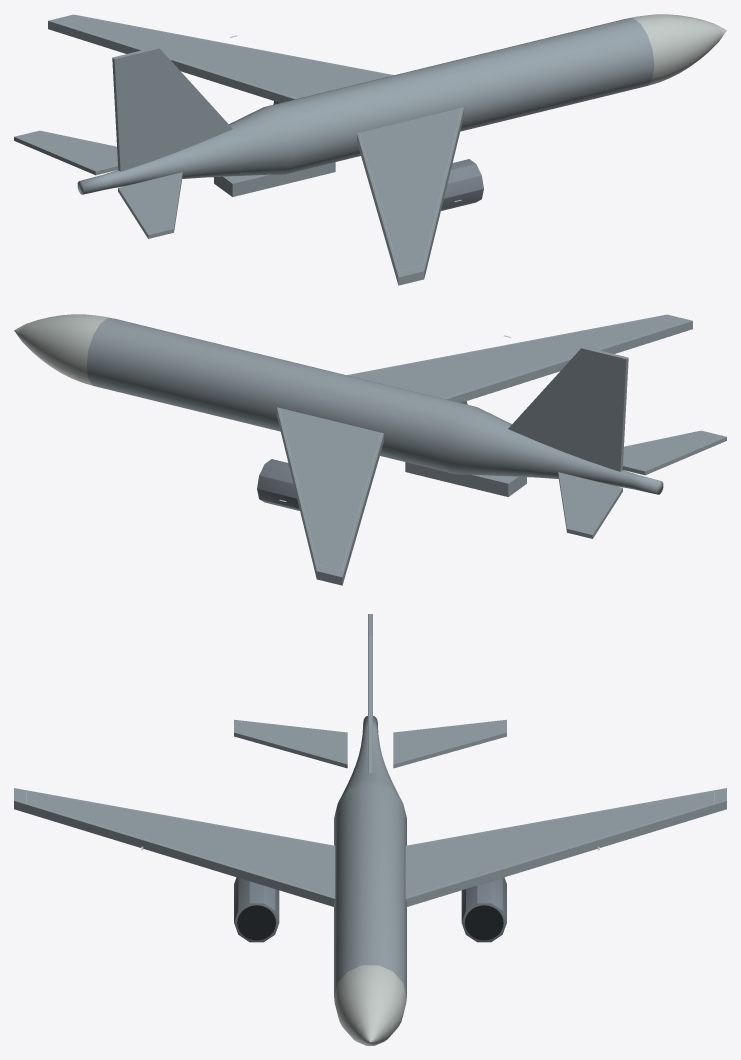
File: rfn_mpa_il38n.glb
3 views of the same model, one above another, from view 1: azimuth 30°, elevation 25°; view 2: azimuth 150°, elevation 25°; view 3: azimuth 270°, elevation 25° (orthographic).
Parts seen in each view (by area): view 1: rfn_mpa_il38n; view 2: rfn_mpa_il38n; view 3: rfn_mpa_il38n.
Part boxes in pixels (x1=…): rfn_mpa_il38n: x1=14, y1=14, x2=726, y2=285; rfn_mpa_il38n: x1=14, y1=314, x2=726, y2=585; rfn_mpa_il38n: x1=14, y1=614, x2=726, y2=1045.
Size of the model in its own units: 10 by 2.59 by 9.4.
